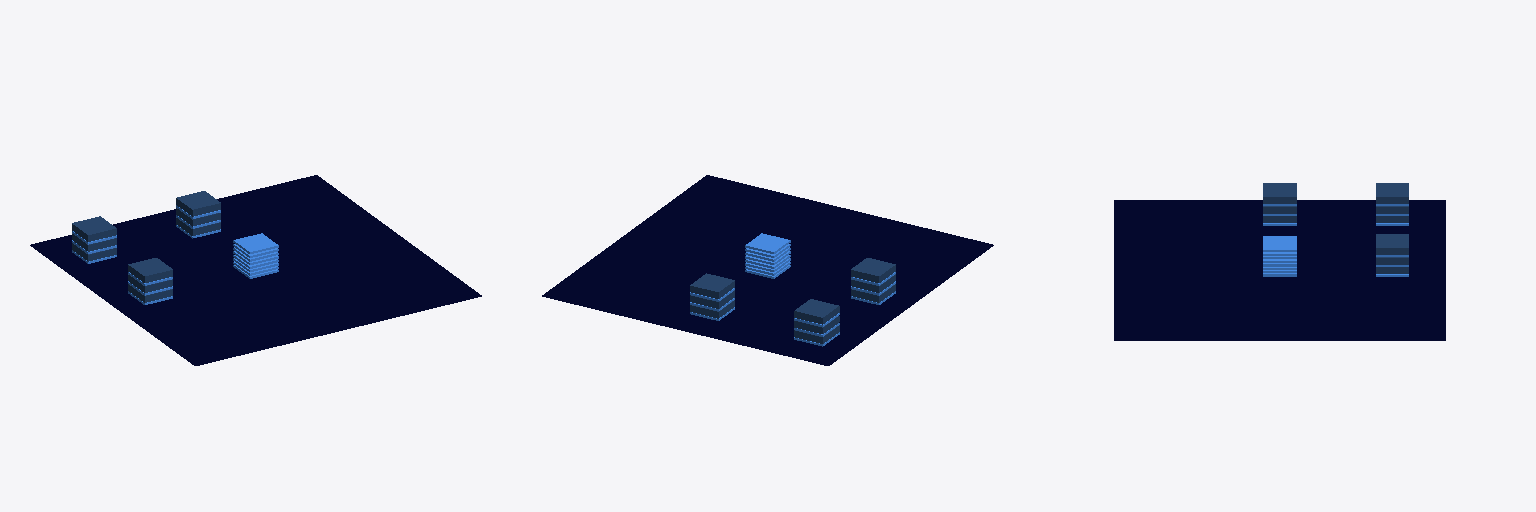
Rendered from testFloor.obj.
3 renders of one model, left to right at view 1: azimuth 30°, elevation 25°; view 2: azimuth 150°, elevation 25°; view 3: azimuth 270°, elevation 25°, orthographic.
Parts seen in each view (by area): view 1: floor, no01, no03, no02, main.7; view 2: floor, no02, no03, no01, main.7; view 3: floor, no03, no01, no02, main.7.
Part boxes in pixels (x1,y1,x2,y2): floor: (30, 175, 481, 365); no01: (176, 191, 220, 238); no03: (128, 258, 172, 304); no02: (72, 216, 116, 263); main.7: (233, 233, 278, 253); floor: (542, 175, 993, 365); no02: (794, 299, 839, 346); no03: (851, 258, 895, 304); no01: (690, 273, 734, 320); main.7: (745, 233, 790, 253); floor: (1114, 200, 1445, 340); no03: (1263, 183, 1296, 225); no01: (1376, 234, 1408, 276); no02: (1376, 183, 1408, 225); main.7: (1263, 236, 1296, 251).
Bounding box in the file's own units: 2000 × 195 × 2000.